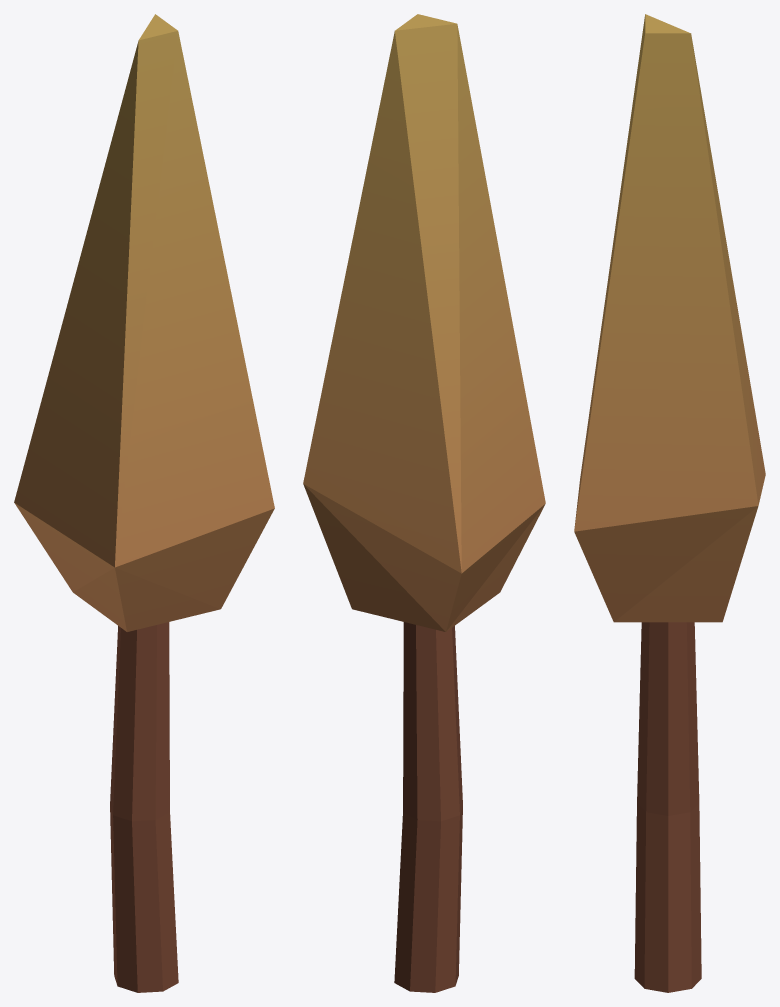
File: Tree_49_gradient_yellow_vc.fbx
The picture shows the model from 3 angles, left to right: view 1: azimuth 30°, elevation 25°; view 2: azimuth 150°, elevation 25°; view 3: azimuth 270°, elevation 25°; orthographic projection.
Parts seen in each view (by area): view 1: Tree_49_gradient_yellow_vc; view 2: Tree_49_gradient_yellow_vc; view 3: Tree_49_gradient_yellow_vc.
Boxes of the visible parts, x1,y1,x2,y2 form: Tree_49_gradient_yellow_vc: (14,14,274,992); Tree_49_gradient_yellow_vc: (303,14,545,992); Tree_49_gradient_yellow_vc: (574,14,765,992).
Size of the model in its own units: 47.16 by 259 by 47.16.
